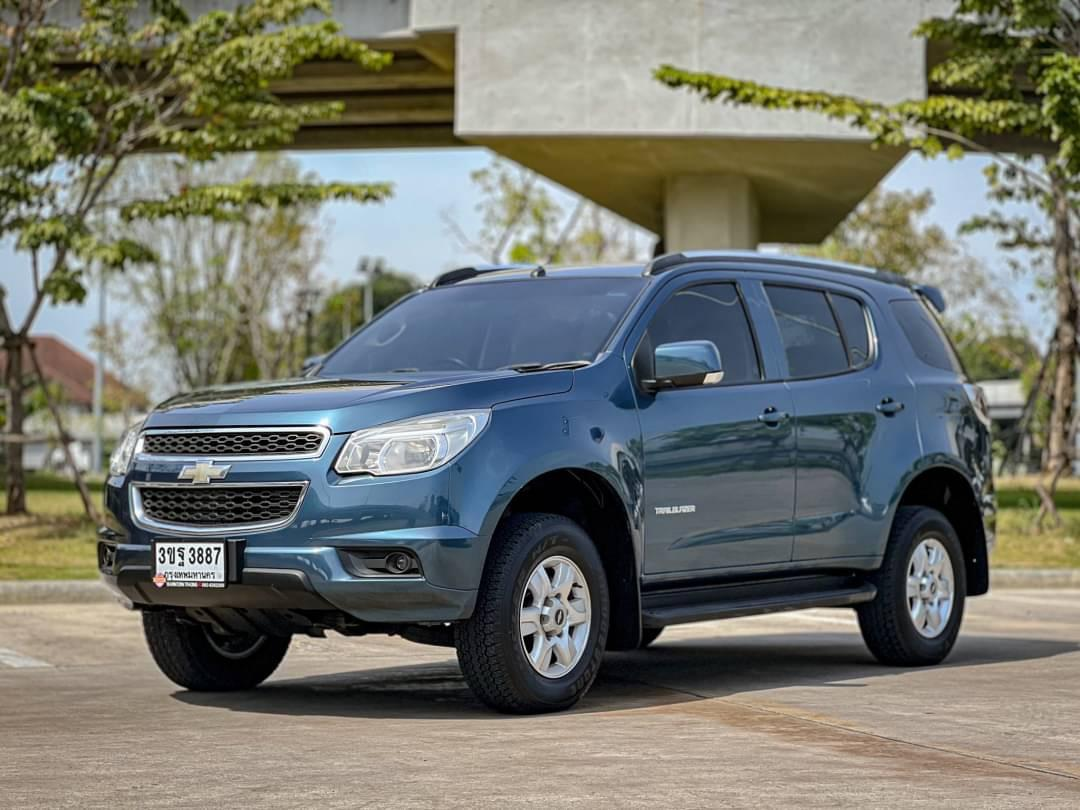license-plate: (147, 533, 239, 591)
